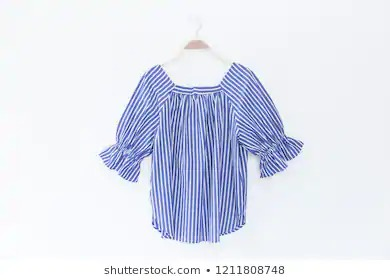C_blouse: (99, 54, 303, 240)
